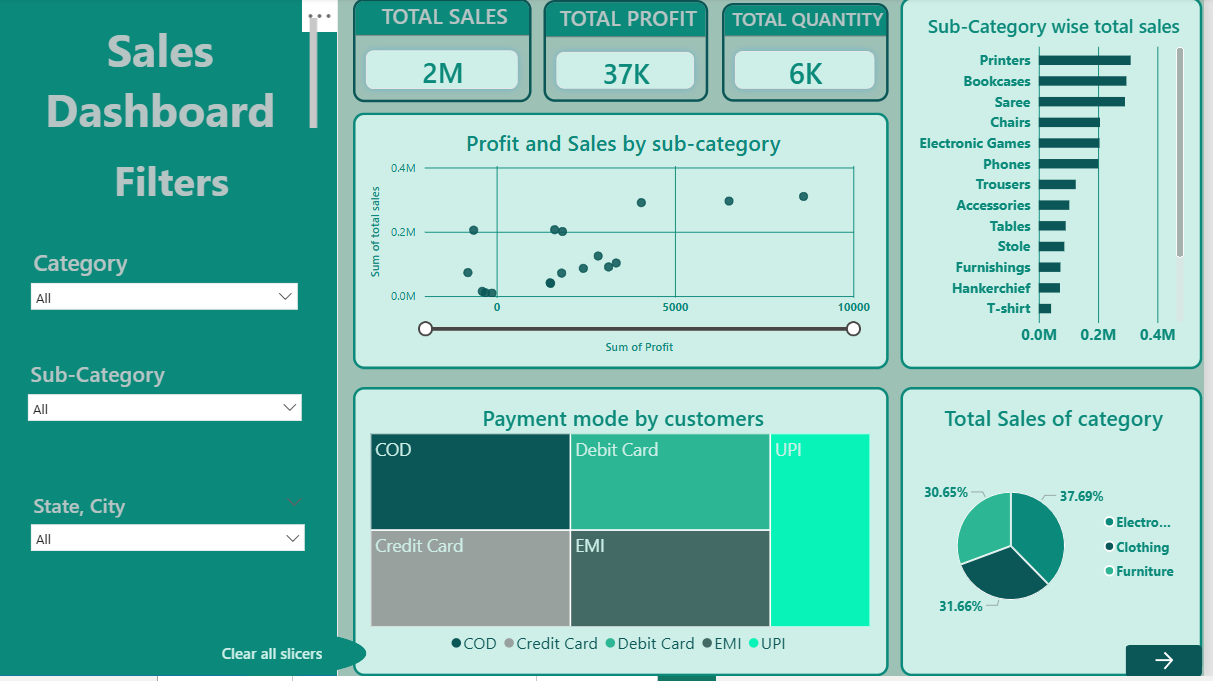

What the dashboard file says about the page in this screenshot:
{"tool":"powerbi","page":{"name":"overview","canvas":[1280,720],"ordinal":0},"visuals":[{"type":"treemap","title":"Payment mode by customers","fields":{"Group":["Details.PaymentMode"],"Values":["CountNonNull(Orders.CustomerName)"]},"box":[378.6,413.6,567.8,307],"z":0},{"type":"cardVisual","title":"TOTAL SALES","fields":{"Data":["Sum(Details.total sales)"]},"box":[378.6,1.6,189.3,109.8],"z":1000},{"type":"cardVisual","title":"TOTAL PROFIT","fields":{"Data":["Sum(Details.Profit)"]},"box":[580.6,3.2,175,108.2],"z":2000},{"type":"cardVisual","title":"TOTAL QUANTITY","fields":{"Data":["Sum(Details.Quantity)"]},"box":[769.9,6.4,176.6,105],"z":3000},{"type":"scatterChart","title":"Profit and Sales by sub-category","fields":{"X":["Sum(Details.Profit)"],"Y":["Sum(Details.total sales)"],"Category":["Details.Sub-Category"]},"box":[378.6,122.5,567.8,272],"z":4000},{"type":"pieChart","title":"Total Sales of category","fields":{"Category":["Details.Category"],"Y":["Sum(Details.total sales)"]},"box":[959.1,413.6,319.7,307],"z":5000},{"type":"clusteredBarChart","title":" Sub-Category wise total sales","fields":{"Category":["Details.Sub-Category"],"Y":["Sum(Details.total sales)"]},"box":[959.1,0,319.7,394.5],"z":6000},{"type":"shape","box":[0,0,362.7,720.5],"z":7000},{"type":"textbox","box":[31.8,165.4,308.6,58.9],"z":8000},{"type":"textbox","box":[15.9,22.3,324.5,130.4],"z":9000},{"type":"textbox","box":[32.1,277.8,292.9,81.3],"z":10000},{"type":"slicer","fields":{"Values":["Details.Category"]},"box":[31.8,264,292.7,73.2],"z":11000},{"type":"slicer","fields":{"Values":["Details.Sub-Category"]},"box":[28.6,383.3,300.6,84.3],"z":12000},{"type":"slicer","fields":{"Values":["Orders.State","Orders.City"]},"box":[31.8,523.3,300.6,76.3],"z":13000},{"type":"actionButton","box":[192.5,671.2,200.4,49.3],"z":14000},{"type":"actionButton","box":[1197.7,687.1,81.1,33.4],"z":14001}]}

Visuals, with their boxes in screenshot pixels (x1, y1, x2, y2), scaled from the page's 1280x720 canvas onto the 1213x681 screenshot:
"Payment mode by customers" treemap: l=359, t=391, r=897, b=680
"TOTAL SALES" cardVisual: l=359, t=2, r=538, b=105
"TOTAL PROFIT" cardVisual: l=550, t=3, r=716, b=105
"TOTAL QUANTITY" cardVisual: l=730, t=6, r=897, b=105
"Profit and Sales by sub-category" scatterChart: l=359, t=116, r=897, b=373
"Total Sales of category" pieChart: l=909, t=391, r=1212, b=680
" Sub-Category wise total sales" clusteredBarChart: l=909, t=0, r=1212, b=373
shape: l=0, t=0, r=344, b=680
textbox: l=30, t=156, r=323, b=212
textbox: l=15, t=21, r=323, b=144
textbox: l=30, t=263, r=308, b=340
slicer - Details.Category: l=30, t=250, r=308, b=319
slicer - Details.Sub-Category: l=27, t=363, r=312, b=442
slicer - Orders.State x Orders.City: l=30, t=495, r=315, b=567
actionButton: l=182, t=635, r=372, b=680
actionButton: l=1135, t=650, r=1212, b=680
